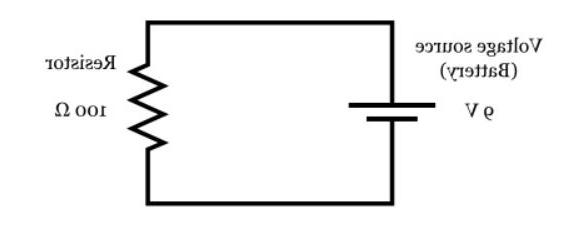Battery: (317, 76, 447, 139)
